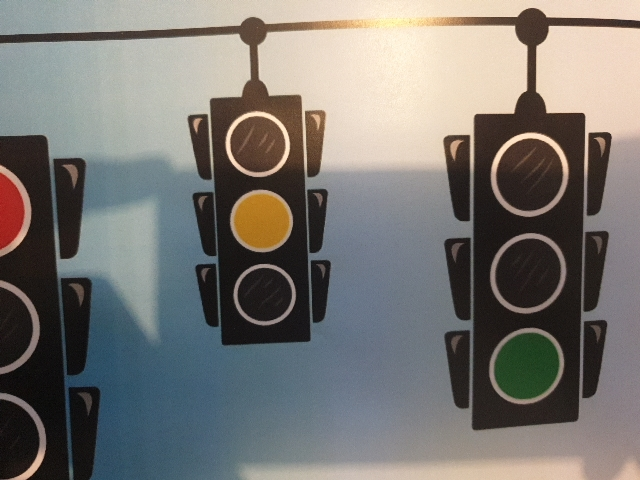amber: (229, 110, 301, 327)
green: (481, 128, 570, 406)
